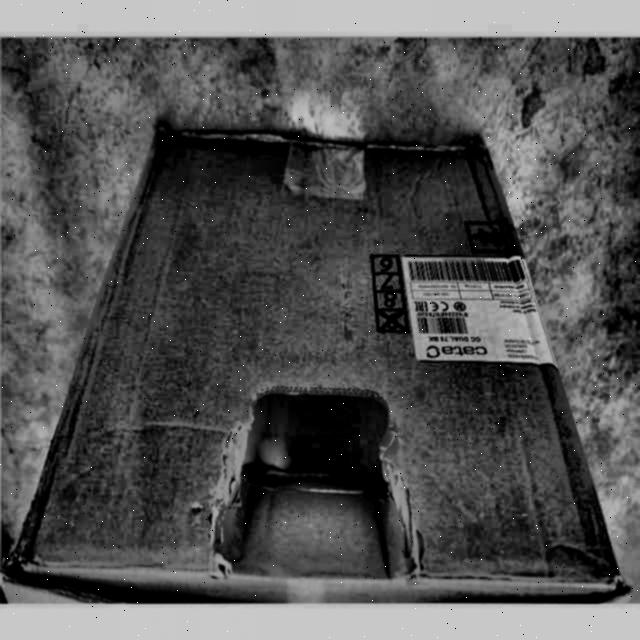box: (1, 113, 640, 615)
hole: (218, 383, 424, 571)
